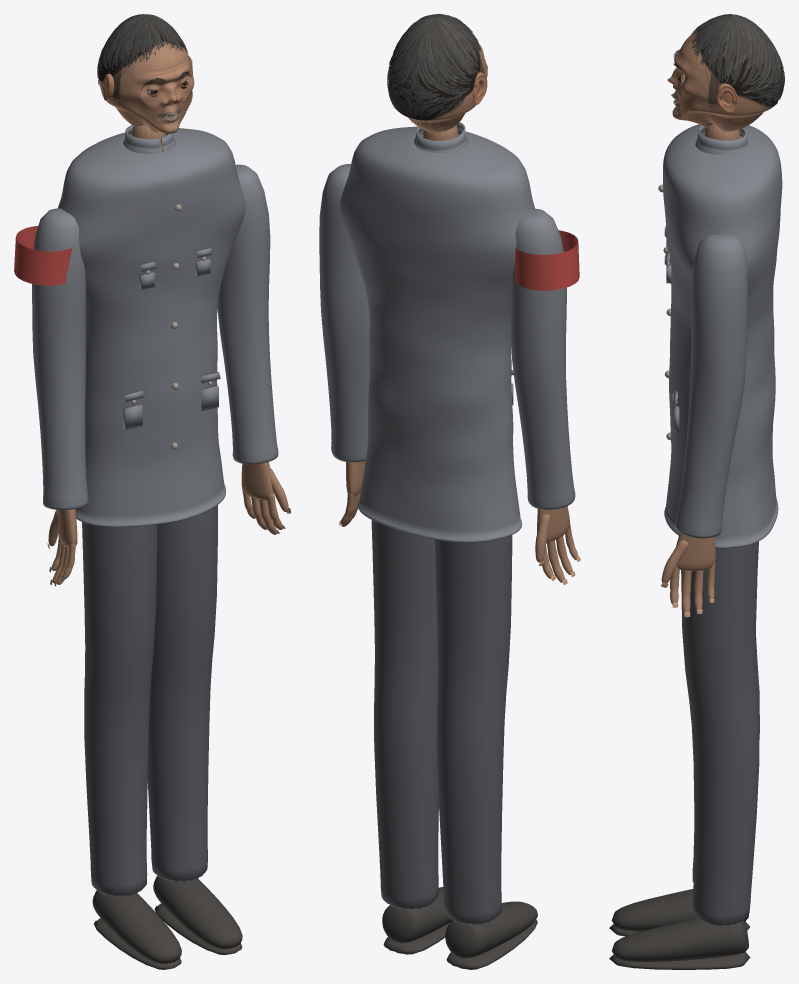
Rendered from emcee.glb.
3 renders of one model, left to right at view 1: azimuth 30°, elevation 25°; view 2: azimuth 150°, elevation 25°; view 3: azimuth 270°, elevation 25°, orthographic. The views are drawn at different scales.
Visible parts, largest first — view 1: Torso, LegL, LegR, SleeveL, SleeveR, Head, FootL, FootR, HairCards, HandR, Armband, HandL (+2 smaller); view 2: Torso, LegL, LegR, SleeveL, SleeveR, HairCards, FootL, Head, FootR, Armband, HandL, HandR (+1 smaller); view 3: Torso, LegR, SleeveR, FootR, Head, HairCards, HandR, FootL, Collar, EarR.
Part boxes in pixels (bbox=[...]): Torso: bbox=[58, 128, 245, 527]; LegL: bbox=[82, 522, 157, 896]; LegR: bbox=[147, 505, 217, 882]; SleeveL: bbox=[32, 208, 88, 509]; SleeveR: bbox=[217, 164, 278, 464]; Head: bbox=[98, 26, 194, 133]; FootL: bbox=[92, 890, 181, 969]; FootR: bbox=[153, 876, 242, 954]; HairCards: bbox=[97, 14, 191, 105]; HandR: bbox=[241, 462, 288, 534]; Armband: bbox=[14, 226, 72, 285]; HandL: bbox=[48, 509, 77, 584]; Torso: bbox=[339, 126, 534, 542]; LegL: bbox=[434, 535, 512, 924]; LegR: bbox=[371, 520, 438, 909]; SleeveL: bbox=[510, 208, 575, 509]; SleeveR: bbox=[319, 164, 369, 462]; HairCards: bbox=[387, 14, 486, 125]; FootL: bbox=[445, 901, 537, 969]; Head: bbox=[389, 28, 487, 132]; FootR: bbox=[382, 887, 452, 954]; Armband: bbox=[515, 230, 579, 290]; HandL: bbox=[535, 506, 578, 582]; HandR: bbox=[340, 460, 365, 526]; Torso: bbox=[663, 124, 782, 548]; LegR: bbox=[681, 541, 759, 926]; SleeveR: bbox=[675, 234, 747, 538]; FootR: bbox=[609, 918, 750, 969]; Head: bbox=[667, 22, 783, 131]; HairCards: bbox=[690, 14, 784, 119]; HandR: bbox=[661, 533, 715, 613]; FootL: bbox=[609, 889, 749, 936]; Collar: bbox=[695, 125, 748, 154]; EarR: bbox=[716, 83, 737, 112].
Size of the model in its own units: 0.4837 by 1.7 by 0.2916.
Materials: 17 (2 with a texture image).
